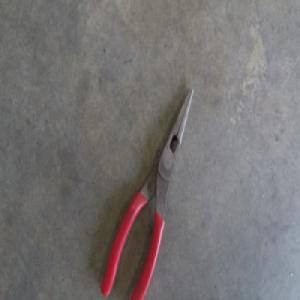Pliers: (102, 89, 194, 298)
